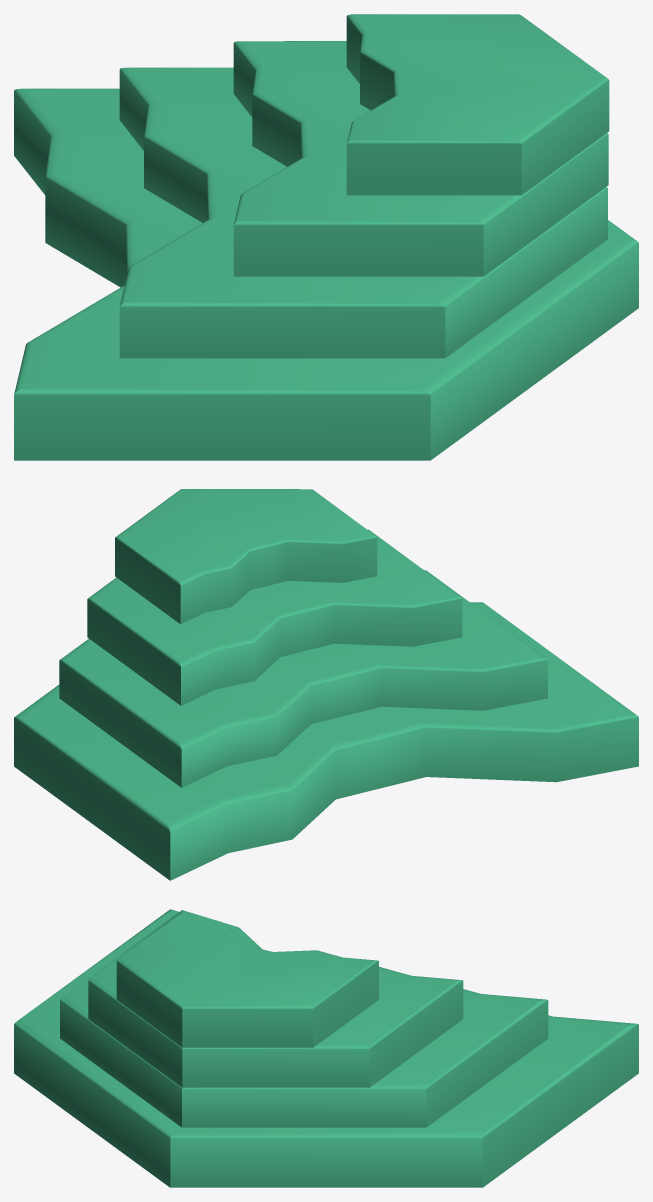
The model's file is stair_double.fbx.
The picture shows the model from 3 angles, top to bottom: view 1: azimuth 30°, elevation 25°; view 2: azimuth 150°, elevation 25°; view 3: azimuth 270°, elevation 25°; orthographic projection. The views are drawn at different scales.
Parts seen in each view (by area): view 1: hex_forest_waterD_empty; view 2: hex_forest_waterD_empty; view 3: hex_forest_waterD_empty.
Part boxes in pixels (x1,y1,x2,y2): hex_forest_waterD_empty: [14, 14, 638, 460]; hex_forest_waterD_empty: [14, 489, 638, 880]; hex_forest_waterD_empty: [14, 909, 638, 1187].
Bounding box in the file's own units: 200 × 70.33 × 231.
